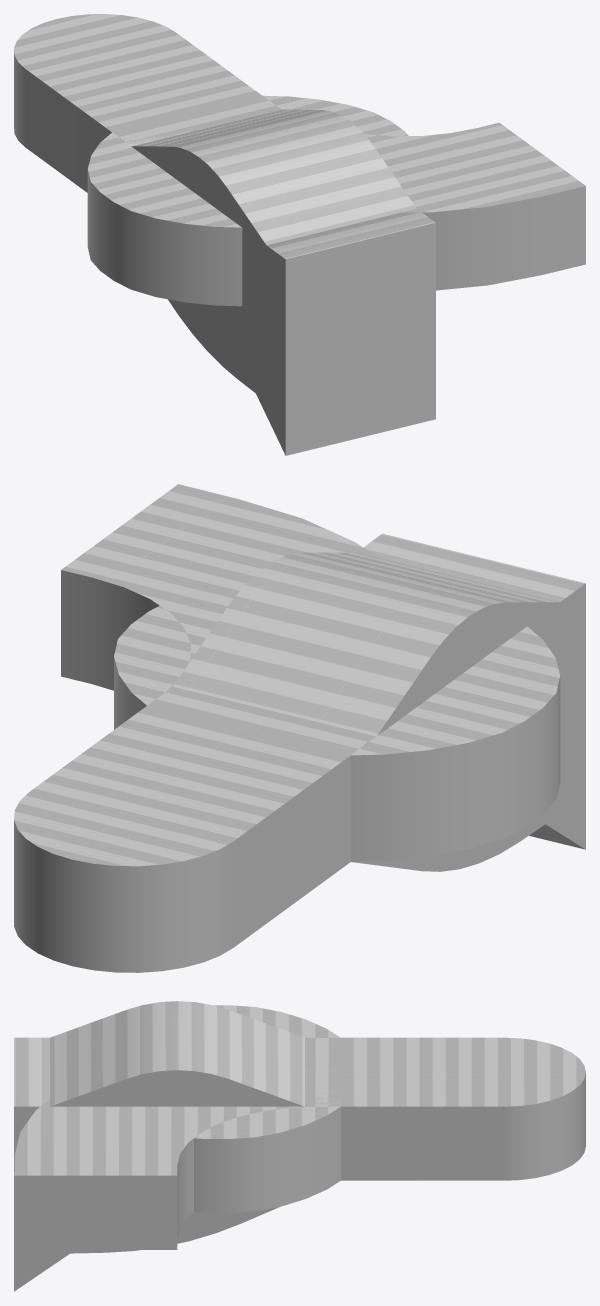
Rendered from Floor_2x2_HardEdge_thick.fbx.
The picture shows the model from 3 angles, top to bottom: view 1: azimuth 30°, elevation 25°; view 2: azimuth 150°, elevation 25°; view 3: azimuth 270°, elevation 25°; orthographic projection. The views are drawn at different scales.
Parts seen in each view (by area): view 1: Floor_2x2_HE_T_hill, Floor_2x2_HE_T_rotate, Floor_2x2_HE_T_cap, Floor_2x2_HE_T_circle, Floor_2x2_HE_T_ramp1, Floor_2x2_HE_T_ramp2, Floor_2x2_HE_T_deep1, Floor_2x2_HE_T_deep2; view 2: Floor_2x2_HE_T_cap, Floor_2x2_HE_T_hill, Floor_2x2_HE_T_circle, Floor_2x2_HE_T_rotate, Floor_2x2_HE_T_deep2, Floor_2x2_HE_T_ramp1, Floor_2x2_HE_T_ramp2, Floor_2x2_HE_T_deep1; view 3: Floor_2x2_HE_T_cap, Floor_2x2_HE_T_rotate, Floor_2x2_HE_T_hill, Floor_2x2_HE_T_circle, Floor_2x2_HE_T_deep2, Floor_2x2_HE_T_ramp1, Floor_2x2_HE_T_ramp2, Floor_2x2_HE_T_deep1.
Part boxes in pixels (<box>): Floor_2x2_HE_T_hill: <box>131,109,435,337</box>; Floor_2x2_HE_T_rotate: <box>113,95,585,290</box>; Floor_2x2_HE_T_cap: <box>14,14,261,192</box>; Floor_2x2_HE_T_circle: <box>87,95,408,306</box>; Floor_2x2_HE_T_ramp1: <box>168,299,435,416</box>; Floor_2x2_HE_T_ramp2: <box>215,305,435,455</box>; Floor_2x2_HE_T_deep1: <box>187,213,435,337</box>; Floor_2x2_HE_T_deep2: <box>112,131,435,334</box>; Floor_2x2_HE_T_cap: <box>14,706,350,972</box>; Floor_2x2_HE_T_hill: <box>173,552,585,736</box>; Floor_2x2_HE_T_circle: <box>114,606,560,861</box>; Floor_2x2_HE_T_rotate: <box>61,484,377,755</box>; Floor_2x2_HE_T_deep2: <box>255,533,585,754</box>; Floor_2x2_HE_T_ramp1: <box>352,690,585,871</box>; Floor_2x2_HE_T_ramp2: <box>529,776,585,849</box>; Floor_2x2_HE_T_deep1: <box>364,534,585,705</box>; Floor_2x2_HE_T_cap: <box>341,1037,585,1180</box>; Floor_2x2_HE_T_rotate: <box>14,1038,340,1249</box>; Floor_2x2_HE_T_hill: <box>14,1001,304,1179</box>; Floor_2x2_HE_T_circle: <box>194,1005,340,1212</box>; Floor_2x2_HE_T_deep2: <box>14,1037,340,1171</box>; Floor_2x2_HE_T_ramp1: <box>14,1181,279,1254</box>; Floor_2x2_HE_T_ramp2: <box>14,1253,69,1291</box>; Floor_2x2_HE_T_deep1: <box>14,1106,211,1216</box>.
Bounding box in the file's own units: 494 × 299 × 700.
